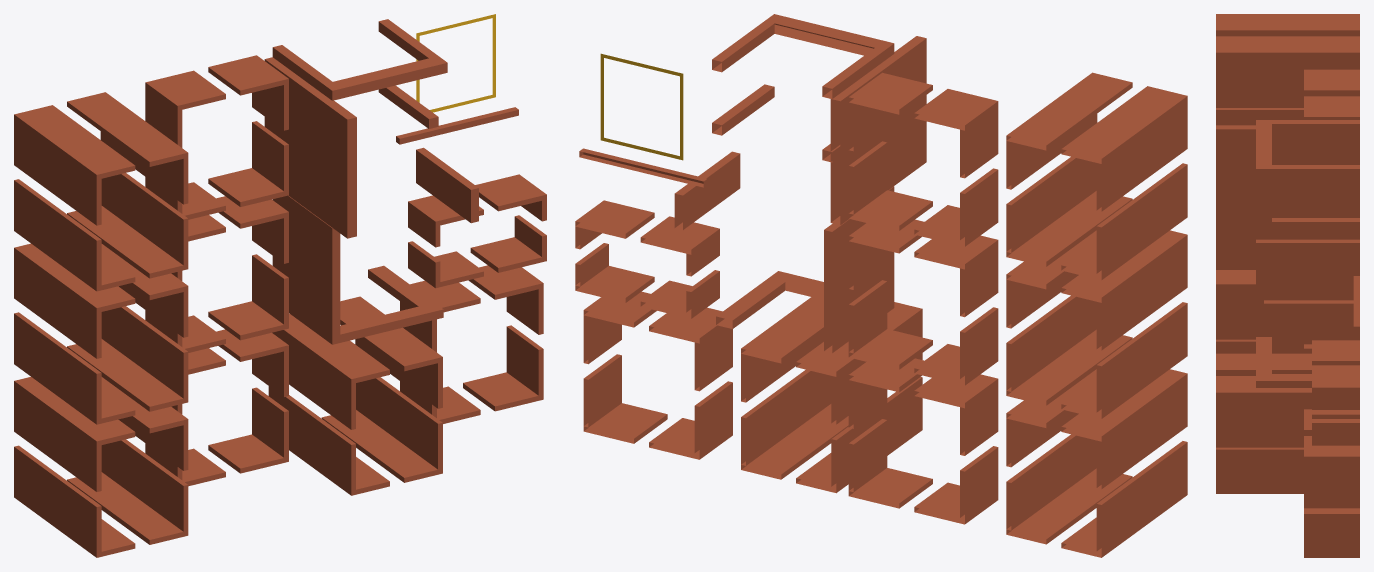
File: construction_2.glb
3 renders of one model, left to right at view 1: azimuth 30°, elevation 25°; view 2: azimuth 150°, elevation 25°; view 3: azimuth 270°, elevation 25°, orthographic. The views are drawn at different scales.
Parts seen in each view (by area): view 1: t02_g56.002, t20_g56.002, t00_g56.002, t01_g56.002, t22_g53.002, t12_g57.002, t31_g54.002, t30_g57.002, t21_g52.002, t10_g57.002, t11_g57.002, t32_g55.002; view 2: t02_g56.002, t00_g56.002, t01_g56.002, t20_g56.002, t12_g57.002, t10_g57.002, t11_g57.002, t30_g57.002, t22_g53.002, t31_g54.002, t21_g52.002, t32_g55.002; view 3: t22_g53.002, t02_g56.002, t20_g56.002, t21_g52.002, t31_g54.002, t30_g57.002, t00_g56.002, t12_g57.002, t01_g56.002, t11_g57.002, t32_g55.002.
Boxes of the visible parts, x1,y1,x2,y2 form: t02_g56.002: [14, 92, 188, 291]; t20_g56.002: [268, 296, 442, 495]; t00_g56.002: [14, 377, 188, 557]; t01_g56.002: [14, 243, 188, 424]; t22_g53.002: [264, 19, 447, 238]; t12_g57.002: [145, 55, 288, 219]; t31_g54.002: [408, 147, 546, 288]; t30_g57.002: [400, 265, 543, 423]; t21_g52.002: [272, 195, 443, 344]; t10_g57.002: [145, 329, 288, 486]; t11_g57.002: [145, 196, 288, 352]; t32_g55.002: [396, 14, 518, 144]; t02_g56.002: [1006, 72, 1187, 280]; t00_g56.002: [1006, 369, 1187, 557]; t01_g56.002: [1006, 230, 1187, 418]; t20_g56.002: [741, 297, 922, 493]; t12_g57.002: [848, 72, 998, 246]; t10_g57.002: [848, 358, 998, 524]; t11_g57.002: [848, 219, 998, 385]; t30_g57.002: [583, 291, 732, 459]; t22_g53.002: [712, 14, 926, 225]; t31_g54.002: [575, 151, 740, 318]; t21_g52.002: [716, 186, 894, 353]; t32_g55.002: [579, 53, 707, 187]; t22_g53.002: [1216, 120, 1359, 232]; t02_g56.002: [1216, 14, 1359, 125]; t20_g56.002: [1216, 353, 1359, 493]; t21_g52.002: [1256, 239, 1359, 387]; t31_g54.002: [1264, 300, 1359, 445]; t30_g57.002: [1304, 409, 1359, 557]; t00_g56.002: [1216, 270, 1303, 353]; t12_g57.002: [1304, 69, 1359, 119]; t01_g56.002: [1216, 233, 1303, 269]; t11_g57.002: [1304, 233, 1359, 239]; t32_g55.002: [1353, 276, 1359, 331].
Bounding box in the file's own units: 63.5 × 46.5 × 18.
